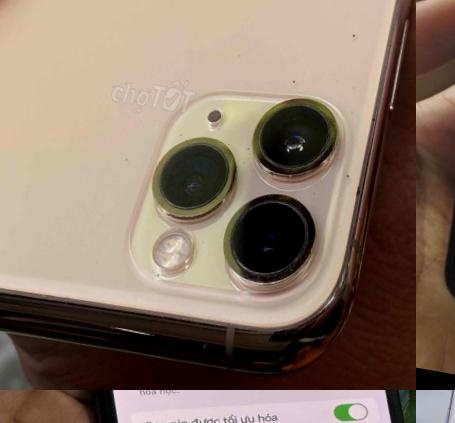scratch: (416, 0, 455, 368), (139, 109, 252, 220), (248, 83, 347, 183), (332, 156, 376, 223), (332, 9, 369, 43), (278, 68, 306, 89)
